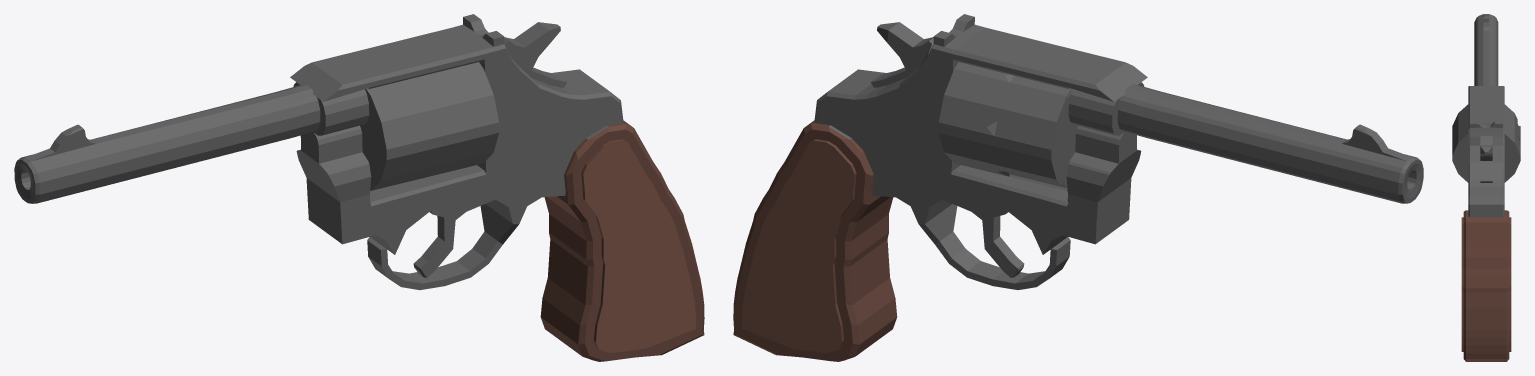
File: Revolver.fbx
3 renders of one model, left to right at view 1: azimuth 30°, elevation 25°; view 2: azimuth 150°, elevation 25°; view 3: azimuth 270°, elevation 25°, orthographic. The views are drawn at different scales.
Parts seen in each view (by area): view 1: Revolver; view 2: Revolver; view 3: Revolver.
Boxes of the visible parts, x1,y1,x2,y2 form: Revolver: (14, 14, 704, 361); Revolver: (733, 14, 1423, 361); Revolver: (1452, 14, 1520, 361).
Bounding box in the file's own units: 1212 × 620 × 200.
